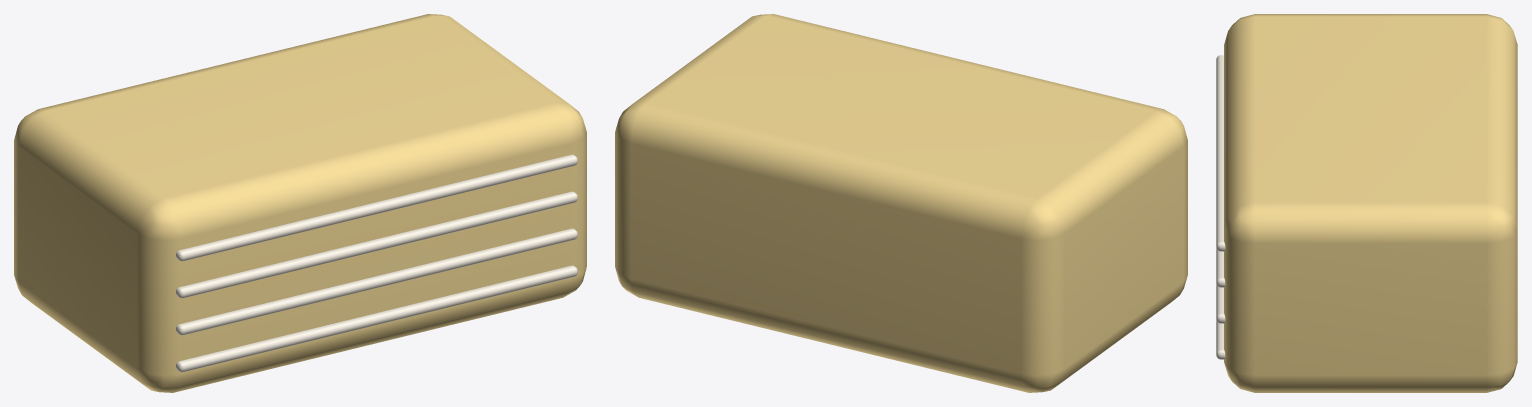
File: Blanket.fbx
3 views of the same model, side by side, from view 1: azimuth 30°, elevation 25°; view 2: azimuth 150°, elevation 25°; view 3: azimuth 270°, elevation 25° (orthographic). The views are drawn at different scales.
Visible parts, largest first — view 1: Blanket, Fold, Fold.001, Fold.002, Fold.003; view 2: Blanket; view 3: Blanket, Fold.003, Fold, Fold.001, Fold.002.
Part boxes in pixels (x1,y1,x2,y2): Blanket: (14,14,586,392); Fold: (176,265,577,372); Fold.001: (176,228,577,335); Fold.002: (176,191,577,298); Fold.003: (176,154,577,261); Blanket: (615,14,1187,392); Blanket: (1224,14,1517,392); Fold.003: (1216,55,1225,251); Fold: (1216,320,1225,359); Fold.001: (1216,284,1225,323); Fold.002: (1216,248,1225,287).
Bounding box in the file's own units: 29 × 12 × 17.45.
